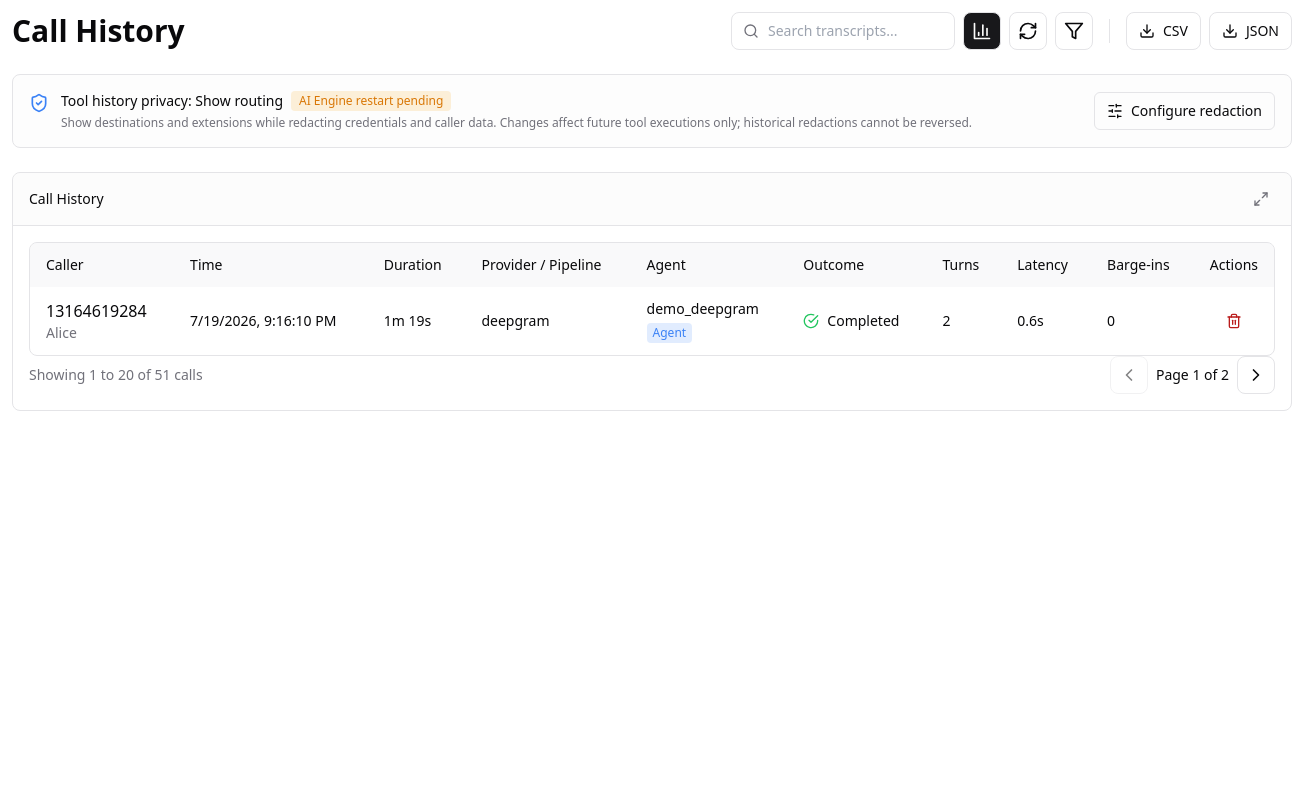
it: CallHistoryPage deep links › ignores an older list failure while the current request is still loading
This screenshot has width=1304, height=812.
Expected: the text "Alice" is shown, top-left (46, 323), bottom-right (77, 342)
Click the button titled "Filters" at (1074, 31), box top-left (1055, 12), bottom-right (1093, 50)
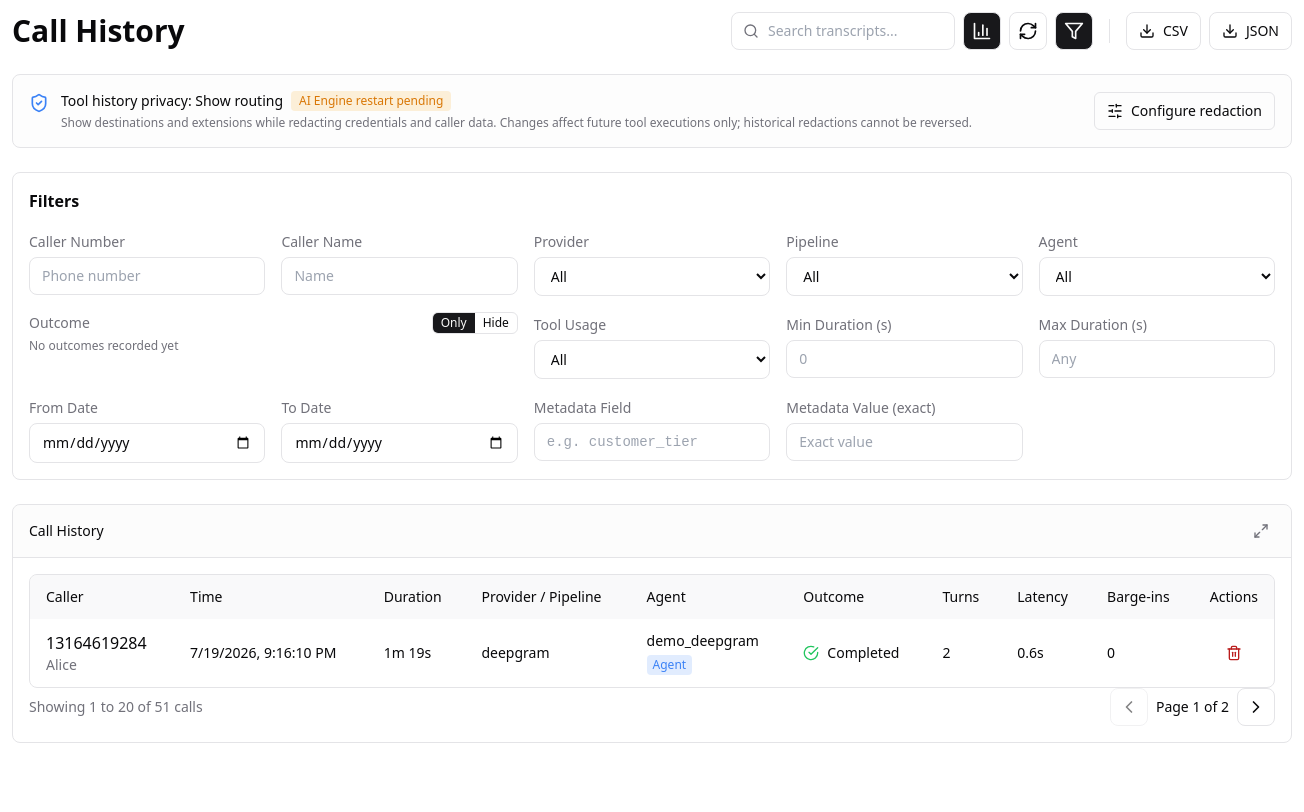
Type "Alice" into the field with placeholder "Name" at (400, 276), box top-left (281, 257), bottom-right (518, 295)
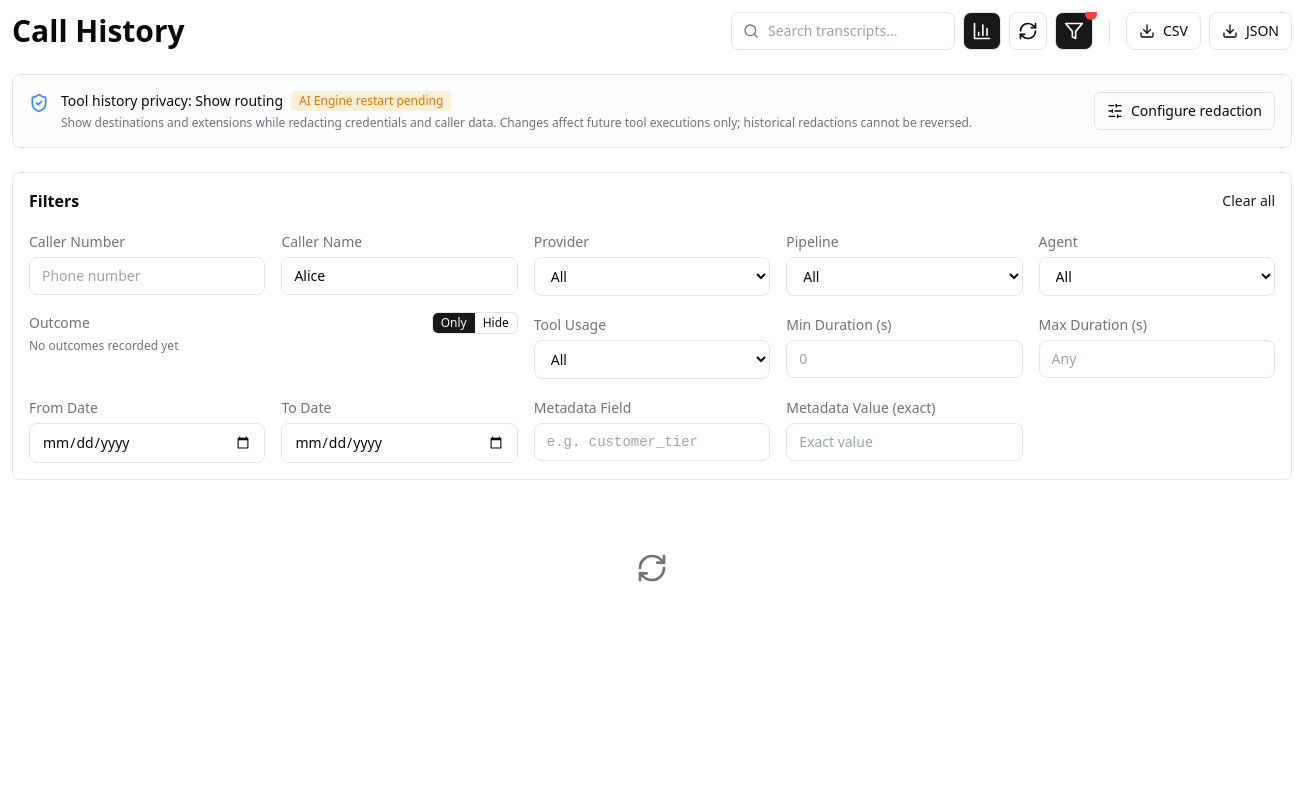
Replace the text in the field with placeholder "Name" with "Bob" at (400, 276), box top-left (281, 257), bottom-right (518, 295)
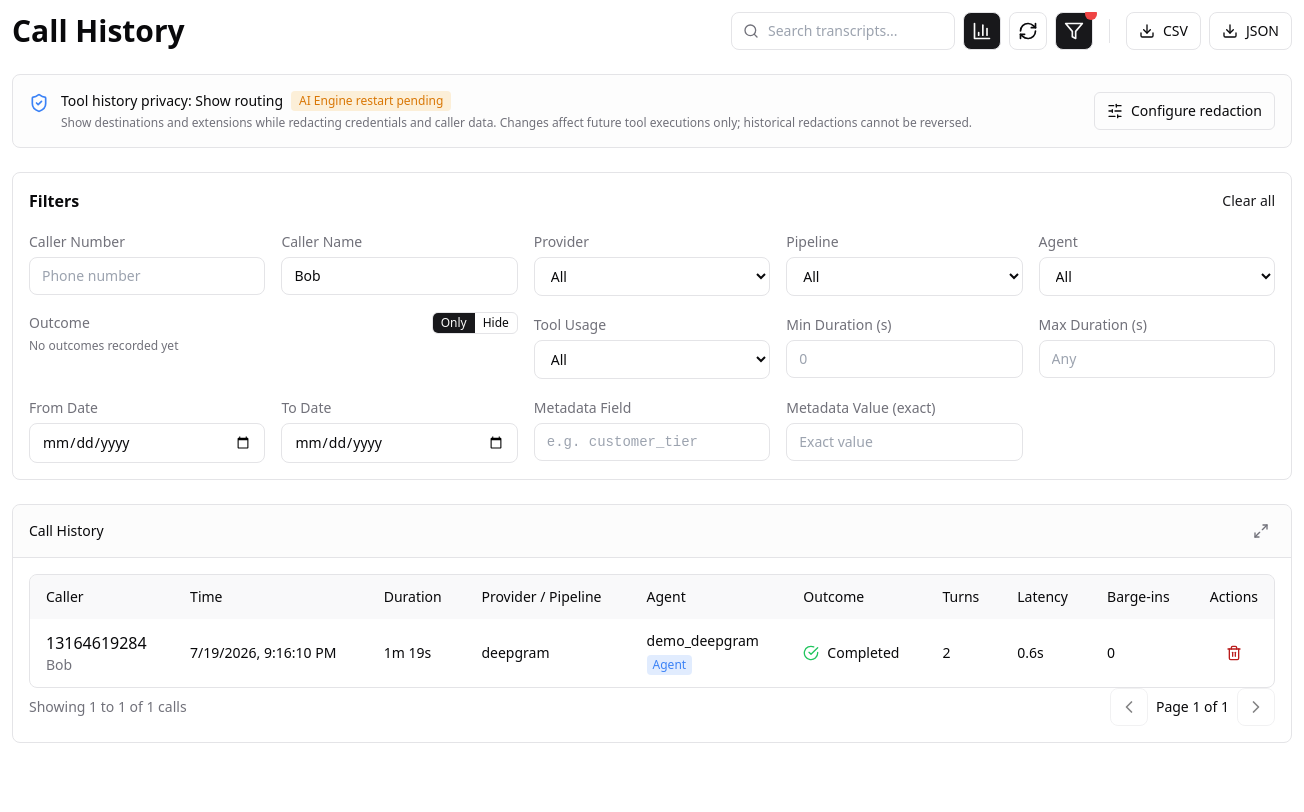
Expected: the text "Bob" is shown, top-left (46, 655), bottom-right (72, 674)
